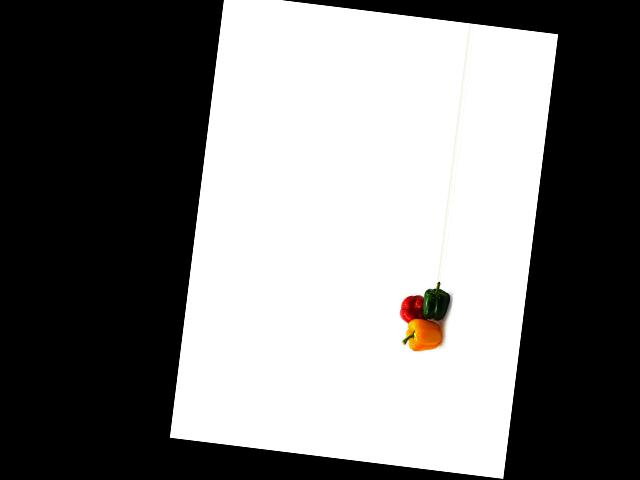bell_pepper: (416, 282, 451, 328)
